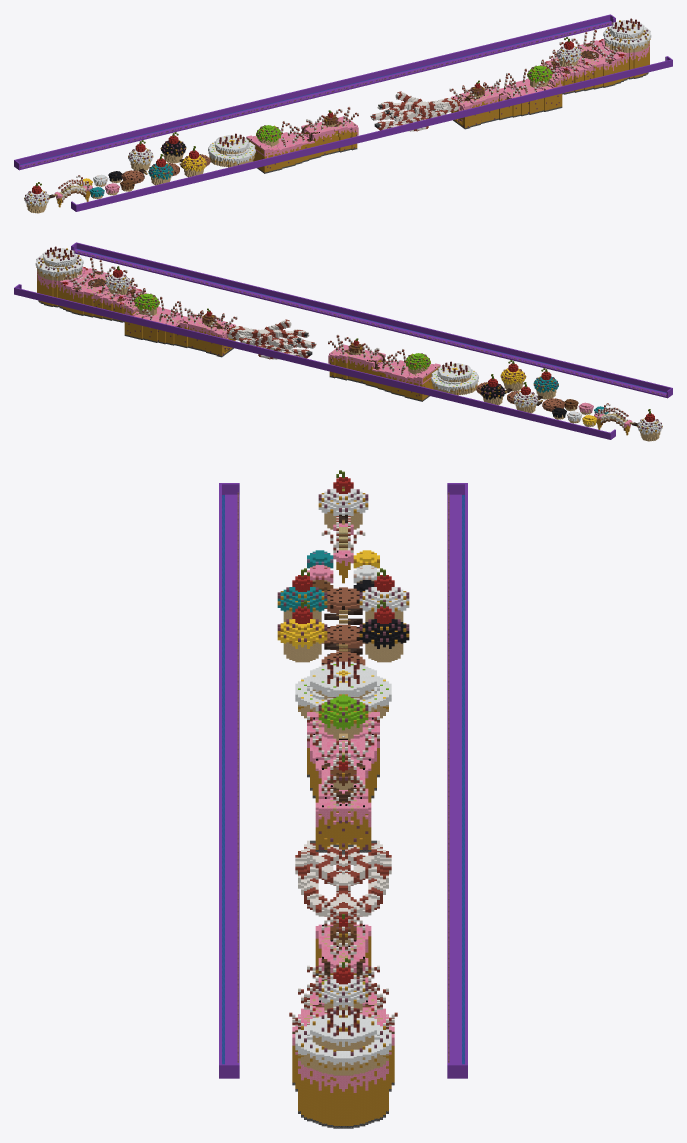
File: minecraft.obj
The picture shows the model from 3 angles, top to bottom: view 1: azimuth 30°, elevation 25°; view 2: azimuth 150°, elevation 25°; view 3: azimuth 270°, elevation 25°; orthographic projection. The views are drawn at different scales.
Size of the model in its own units: 4910 by 450 by 850.
